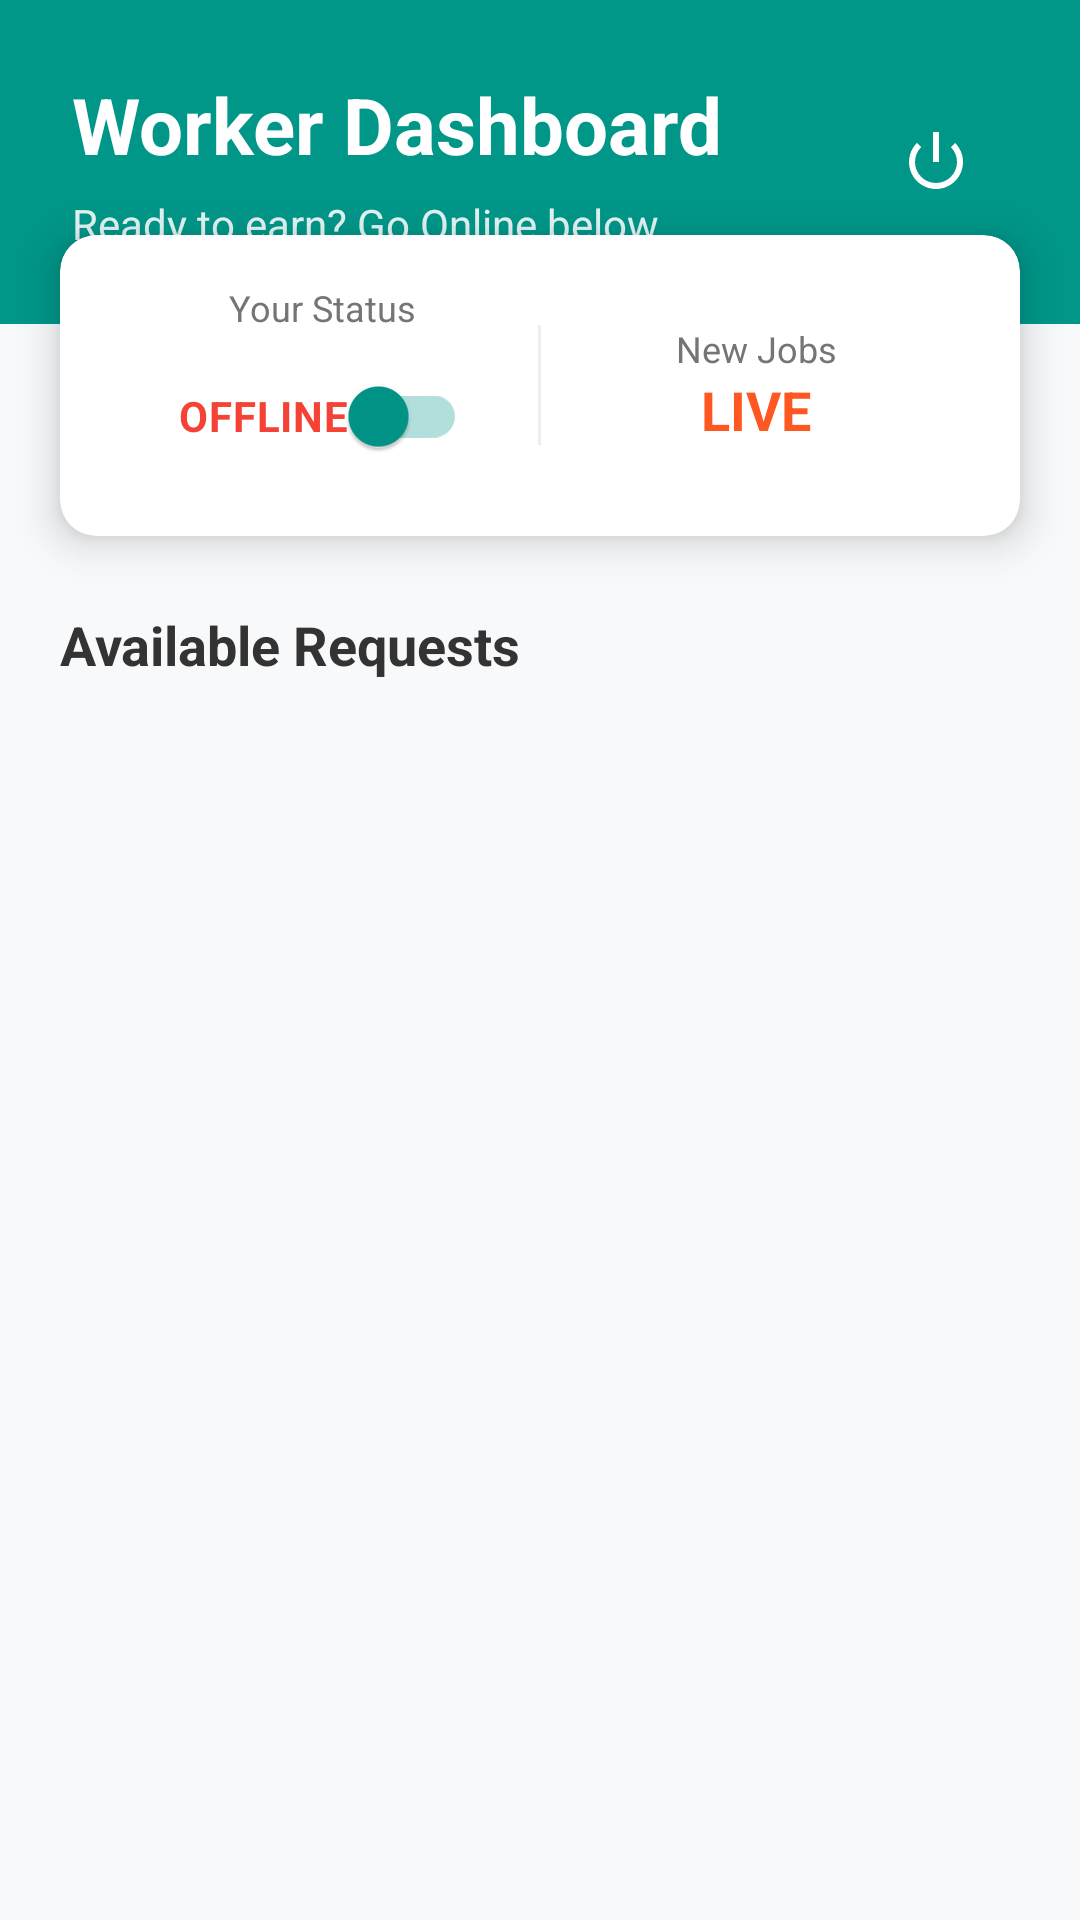

Icon click points for this 1080px x 1920px phone screenshot, format point (x, y):
lock power off: point (936, 160)
